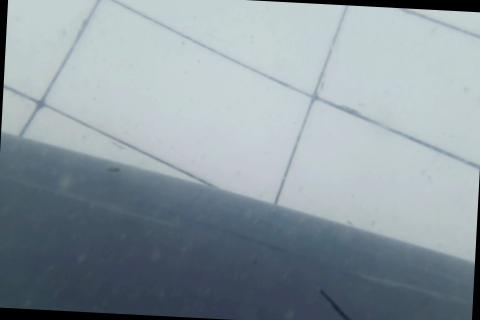keretakan: (317, 287, 363, 320)
